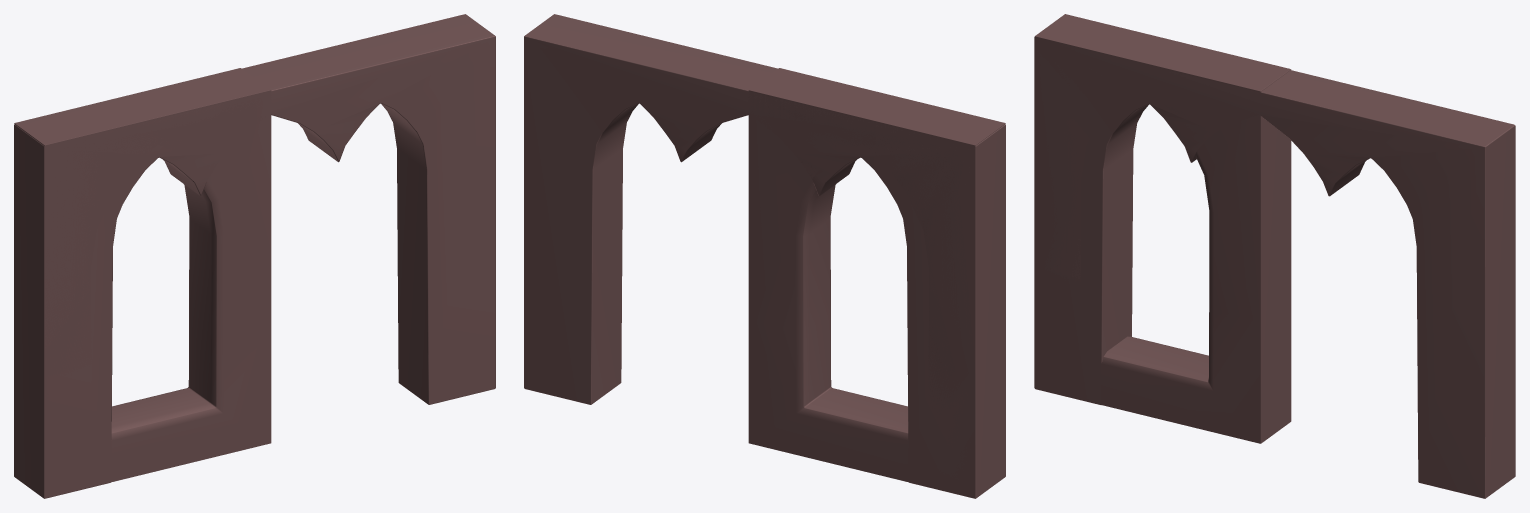
Rendered from window_doors.fbx.
3 renders of one model, left to right at view 1: azimuth 30°, elevation 25°; view 2: azimuth 150°, elevation 25°; view 3: azimuth 330°, elevation 25°, orthographic.
Visible parts, largest first — view 1: big_door, window, small_door; view 2: big_door, window, small_door; view 3: big_door, window, small_door.
Part boxes in pixels (x1=…): big_door: x1=14, y1=14, x2=495, y2=498; window: x1=14, y1=68, x2=270, y2=498; small_door: x1=14, y1=68, x2=271, y2=442; big_door: x1=524, y1=14, x2=1005, y2=498; window: x1=749, y1=68, x2=1005, y2=498; small_door: x1=748, y1=68, x2=1005, y2=442; big_door: x1=1034, y1=37, x2=1515, y2=498; window: x1=1034, y1=14, x2=1289, y2=443; small_door: x1=1034, y1=38, x2=1291, y2=443.
Size of the model in its own units: 500 by 374 by 58.41.
